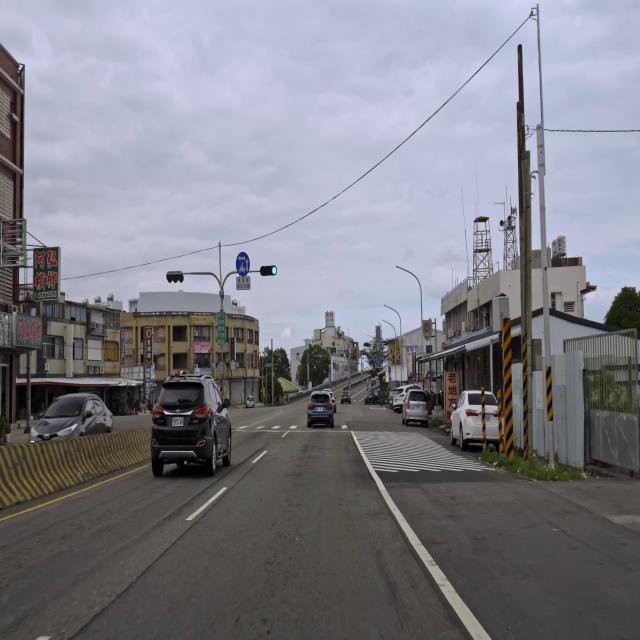green light: (259, 266, 278, 276)
